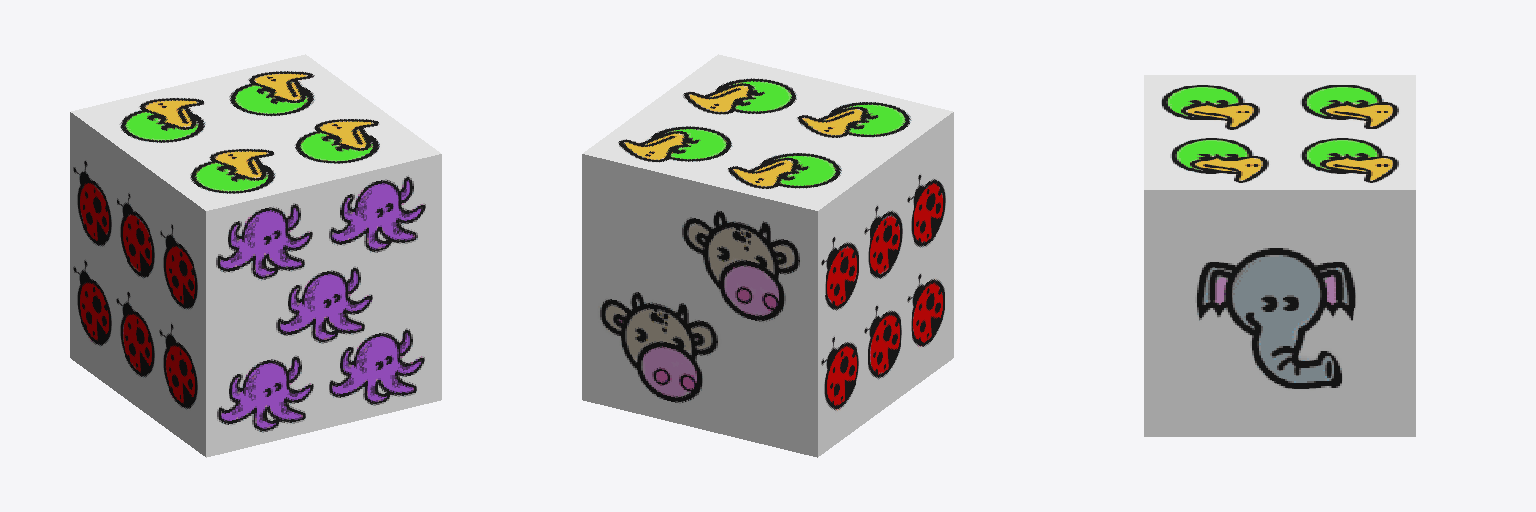
3 views of the same model, side by side, from view 1: azimuth 30°, elevation 25°; view 2: azimuth 150°, elevation 25°; view 3: azimuth 270°, elevation 25° (orthographic).
Visible parts, largest first — view 1: Cube_Material; view 2: Cube_Material; view 3: Cube_Material.
Part boxes in pixels (left/top/right/bottom): Cube_Material: left=70, top=54, right=441, bottom=457; Cube_Material: left=582, top=54, right=953, bottom=457; Cube_Material: left=1144, top=75, right=1415, bottom=436.
Size of the model in its own units: 2 by 2 by 2.
1 materials, 1 textured.